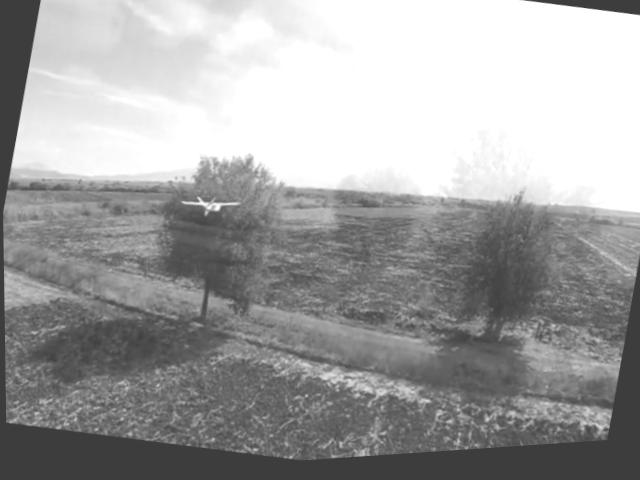hedef: (170, 186, 249, 233)
